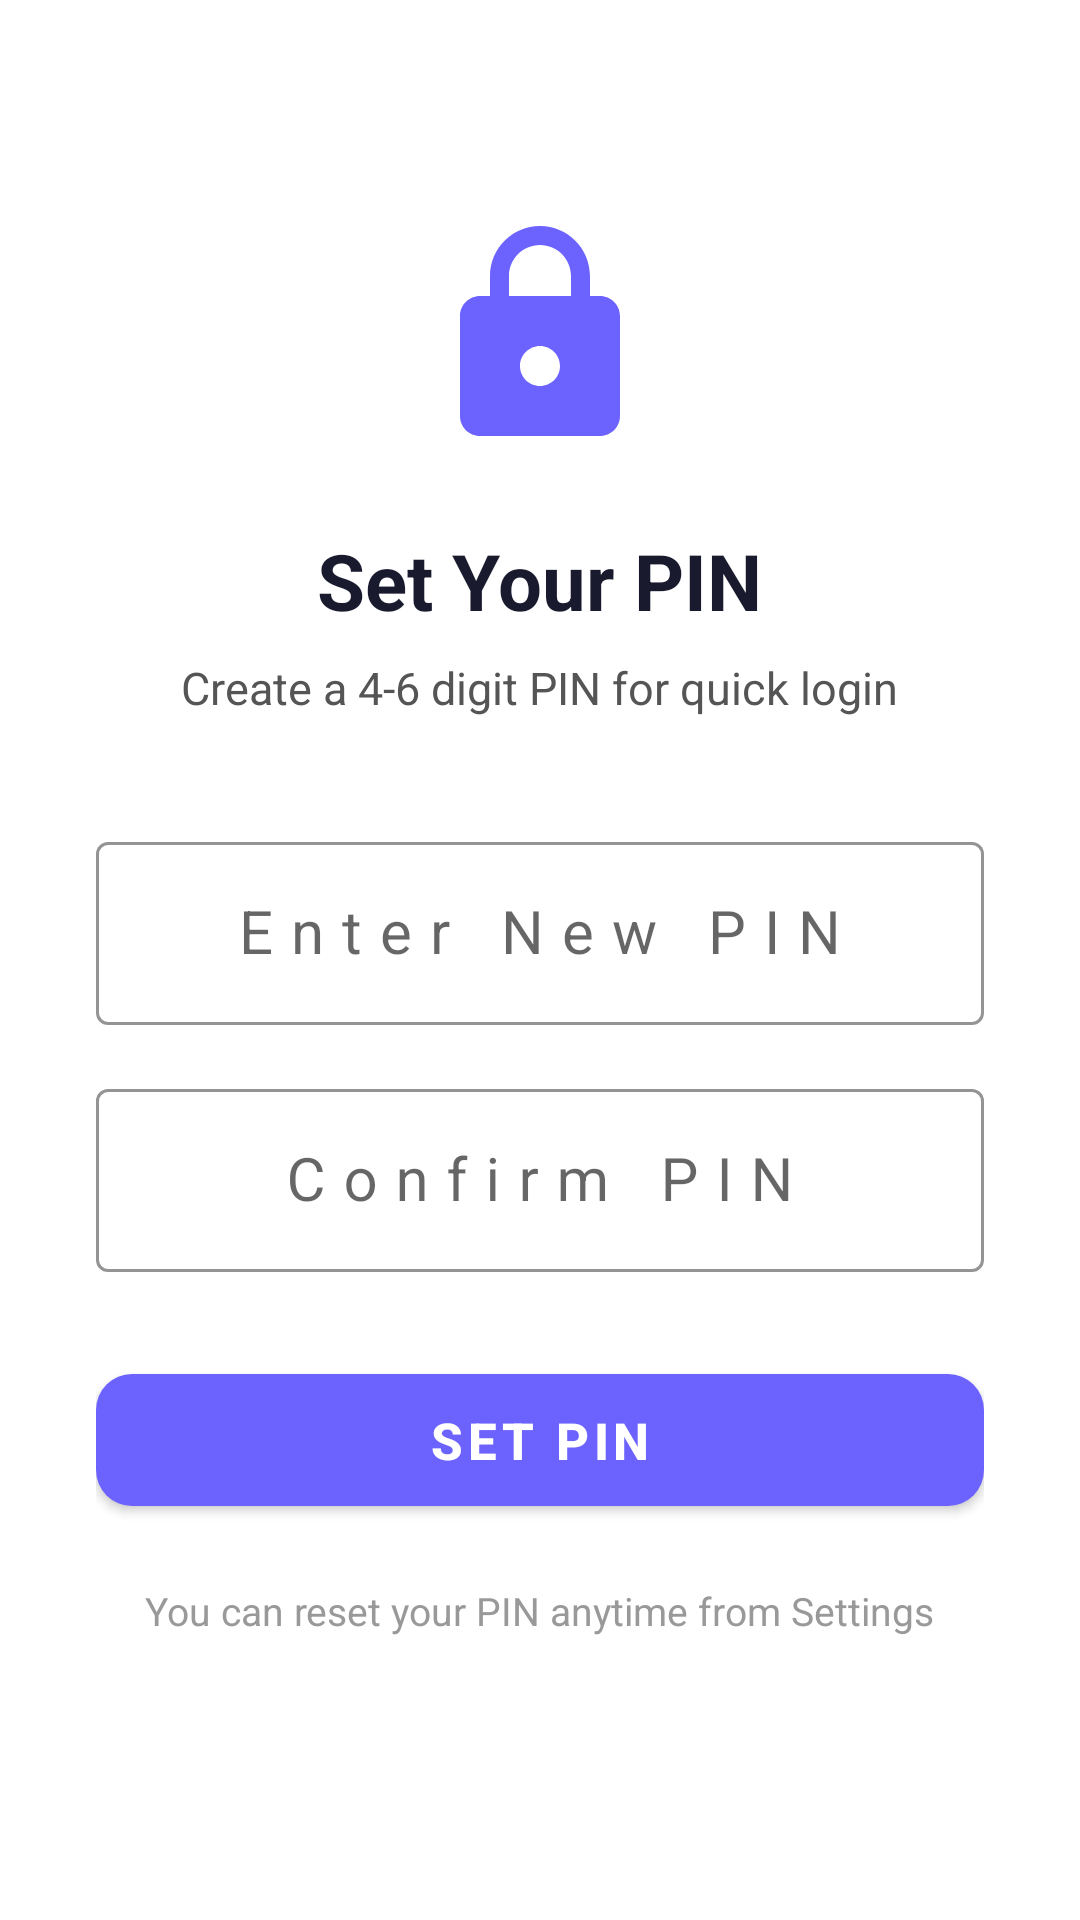

Screen size 1080 x 1920. Icon name, then its box in pixels as (x1, y1, x2, y2):
PIN Setup: (460, 226, 620, 436)
